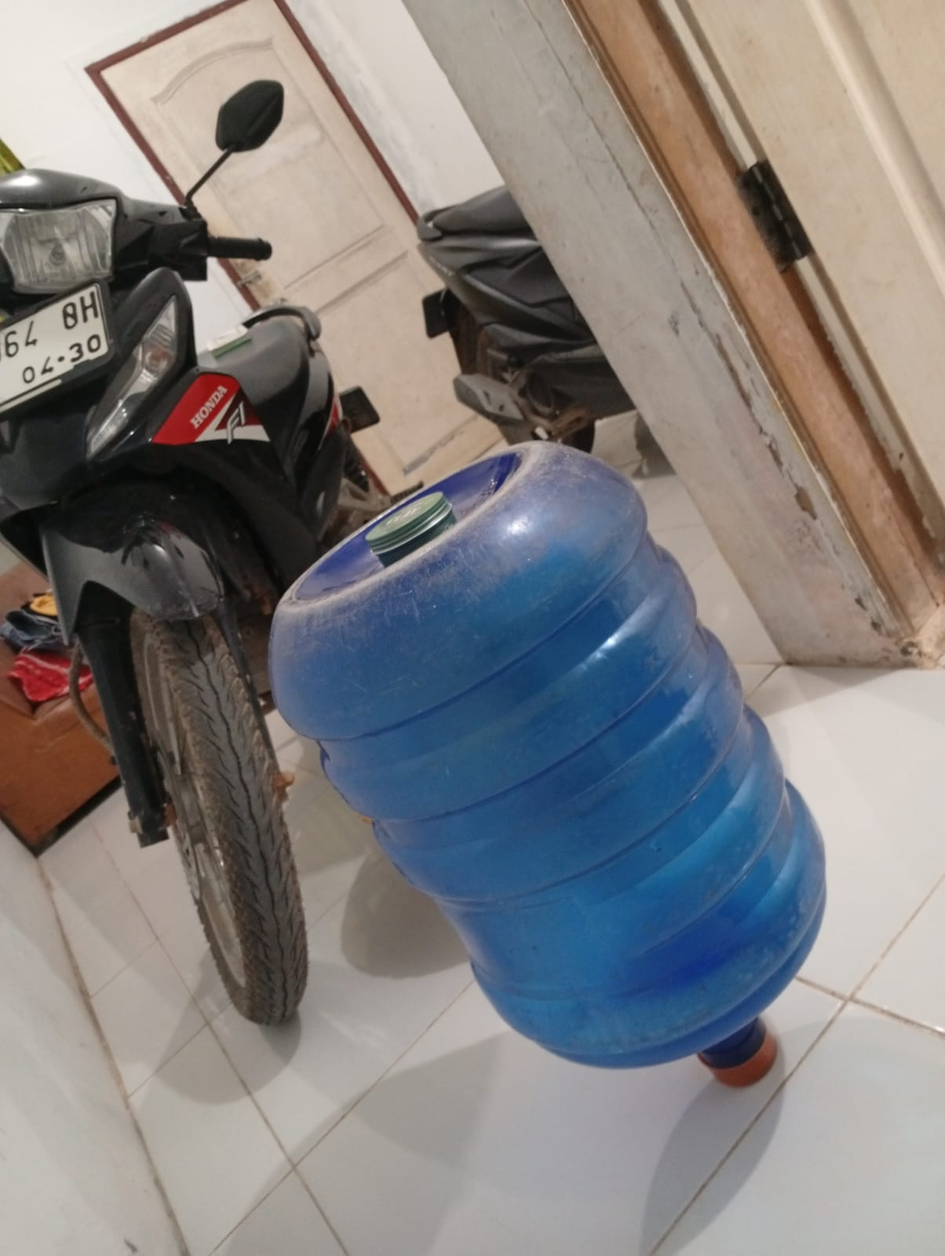Minyak_Rambut: (314, 537, 504, 637)
